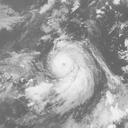cyclone: (46, 45, 86, 84)
